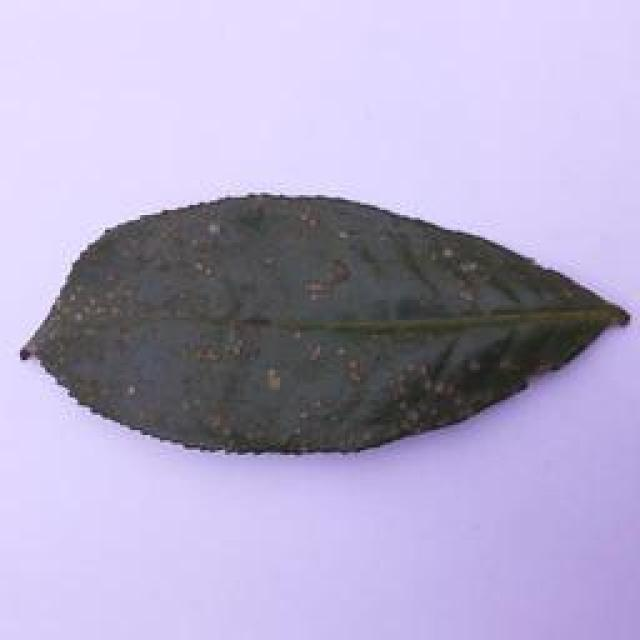Algal Leaf Spot: (10, 178, 640, 472)
